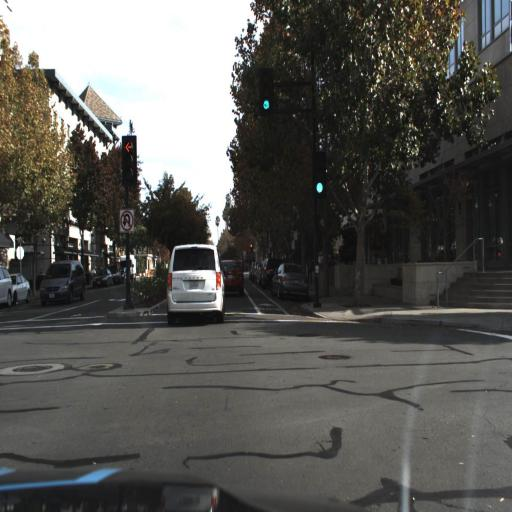car: (161, 235, 232, 330), (36, 257, 86, 305), (210, 251, 250, 309), (269, 260, 310, 298), (261, 258, 282, 292), (120, 252, 138, 286), (90, 267, 112, 289)
trafficLight: (311, 149, 326, 197)
trafficLight-Green: (258, 65, 272, 111)
trafficLight-RedLeft: (121, 134, 136, 182)
